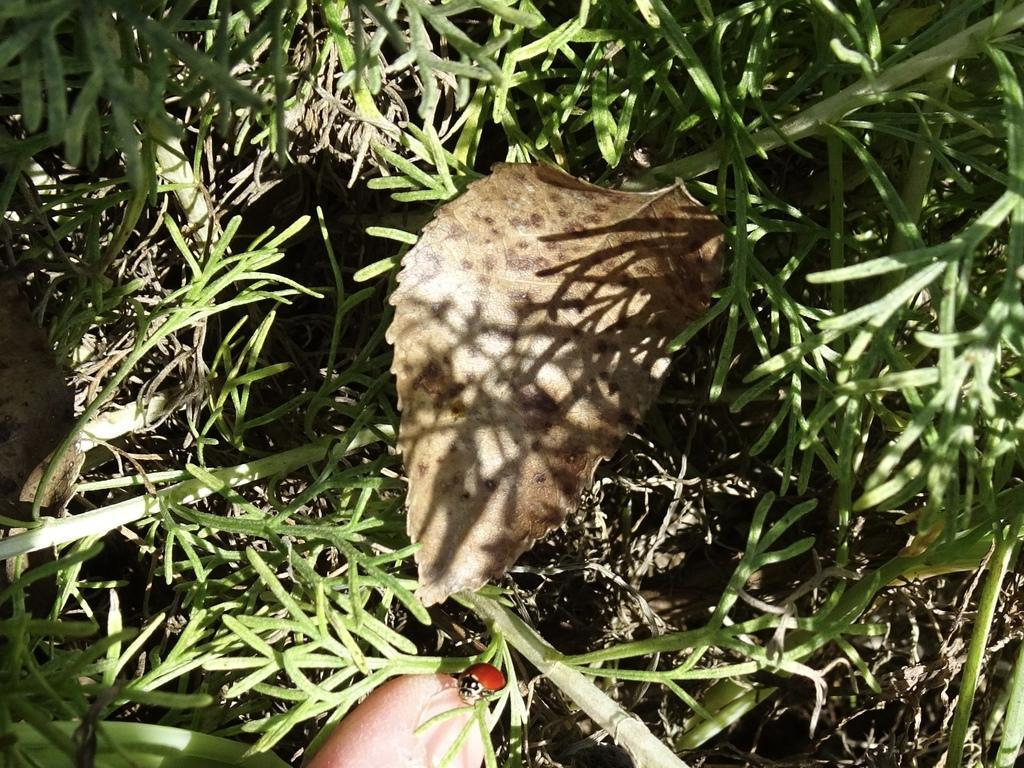ladybug: (457, 663, 509, 707)
